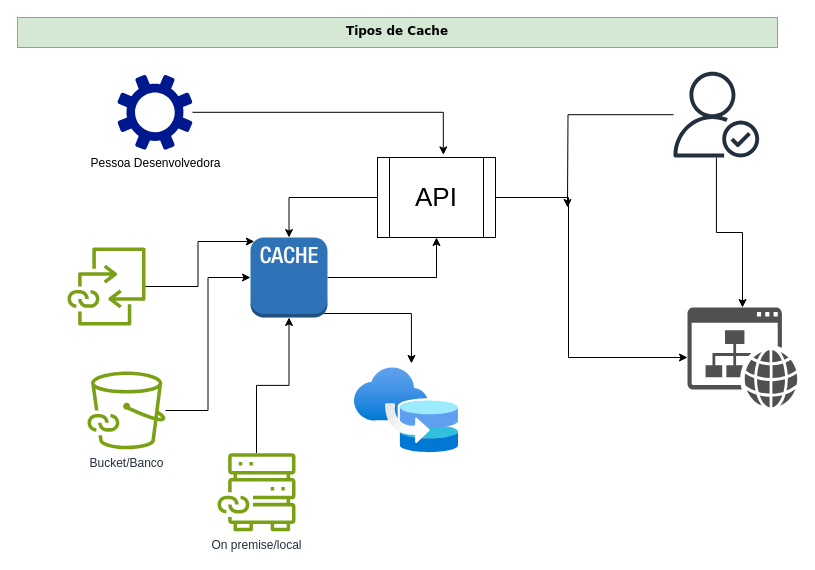
This 815x570 diagram has some shape labels left out. The centre of each missing label's shape, as x and y in pixels:
Conectado: (406,410)
Híbrido e linkado: (106,286)
WEB: (742,357)
